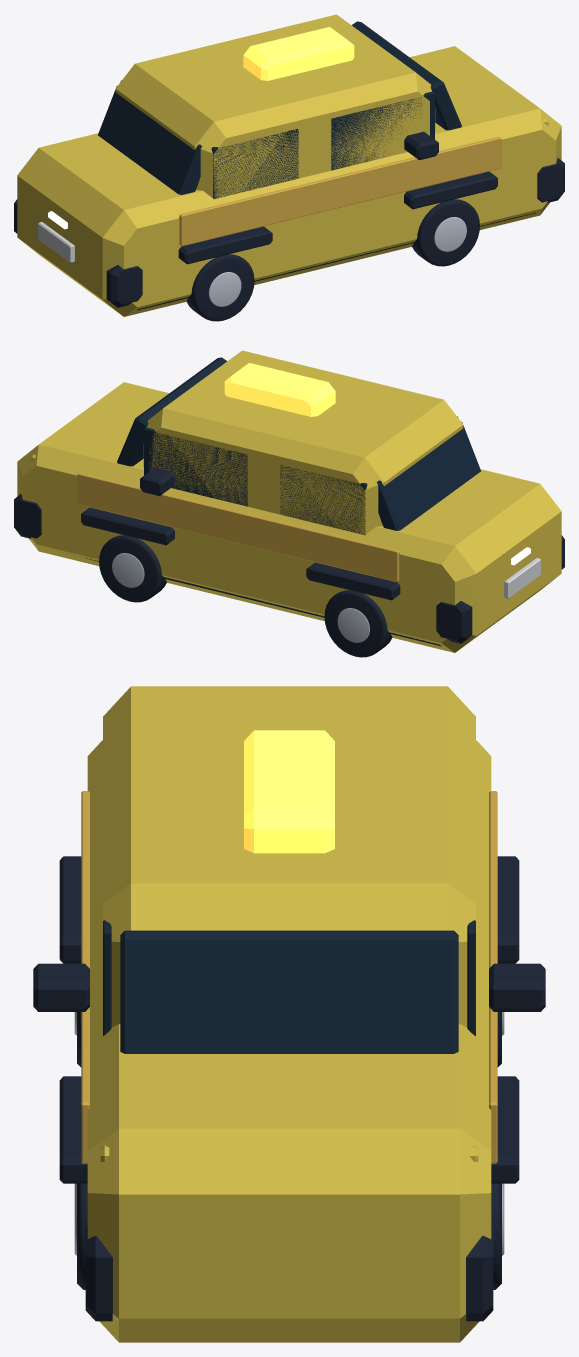
Rendered from spire_dress_car_v3.glb.
3 views of the same model, one above another, from view 1: azimuth 30°, elevation 25°; view 2: azimuth 150°, elevation 25°; view 3: azimuth 270°, elevation 25° (orthographic). The views are drawn at different scales.
Visible parts, largest first — view 1: car_body, car_cabin, car_livery, car_rear_glass, car_sign, car_glass_r1, car_glass_f1, car_tyre1-1.2499999999999998, car_tyre11.15, car_screen, car_arch1-1.2499999999999998, car_arch11.15 (+7 smaller); view 2: car_body, car_cabin, car_livery_b, car_rear_glass, car_glass_f-1, car_sign, car_glass_r-1, car_tyre-1-1.2499999999999998, car_tyre-11.15, car_screen, car_arch-1-1.2499999999999998, car_arch-11.15 (+7 smaller); view 3: car_body, car_cabin, car_screen, car_sign, car_bumper_f, car_livery, car_livery_b, car_mirror-1, car_mirror1, car_arch-11.15, car_arch11.15, car_arch-1-1.2499999999999998 (+5 smaller).
Boxes of the visible parts, <box> form: car_body: <box>17,46,561,316</box>; car_cabin: <box>115,14,435,198</box>; car_livery: <box>179,136,501,245</box>; car_rear_glass: <box>98,86,202,194</box>; car_sign: <box>243,27,354,80</box>; car_glass_r1: <box>211,128,298,198</box>; car_glass_f1: <box>331,91,434,170</box>; car_tyre1-1.2499999999999998: <box>186,254,254,321</box>; car_tyre11.15: <box>412,199,479,266</box>; car_screen: <box>351,21,461,130</box>; car_arch1-1.2499999999999998: <box>178,226,272,264</box>; car_arch11.15: <box>404,171,497,209</box>; car_body: <box>17,382,561,652</box>; car_cabin: <box>143,350,463,534</box>; car_livery_b: <box>77,472,399,581</box>; car_rear_glass: <box>376,422,480,530</box>; car_glass_f-1: <box>144,427,247,506</box>; car_sign: <box>224,363,335,416</box>; car_glass_r-1: <box>280,465,367,534</box>; car_tyre-1-1.2499999999999998: <box>324,590,392,657</box>; car_tyre-11.15: <box>99,535,166,602</box>; car_screen: <box>117,357,227,466</box>; car_arch-1-1.2499999999999998: <box>306,562,400,600</box>; car_arch-11.15: <box>81,507,174,545</box>; car_body: <box>87,740,491,1342</box>; car_cabin: <box>103,686,475,1026</box>; car_screen: <box>120,930,458,1053</box>; car_sign: <box>244,730,334,853</box>; car_bumper_f: <box>85,1226,493,1321</box>; car_livery: <box>81,791,89,1163</box>; car_livery_b: <box>489,791,497,1163</box>; car_mirror-1: <box>489,963,545,1011</box>; car_mirror1: <box>33,963,89,1011</box>; car_arch-11.15: <box>491,1076,519,1183</box>; car_arch11.15: <box>59,1076,87,1183</box>; car_arch-1-1.2499999999999998: <box>497,856,519,963</box>.
Bounding box in the file's own units: 4.95 × 2.13 × 2.36.
